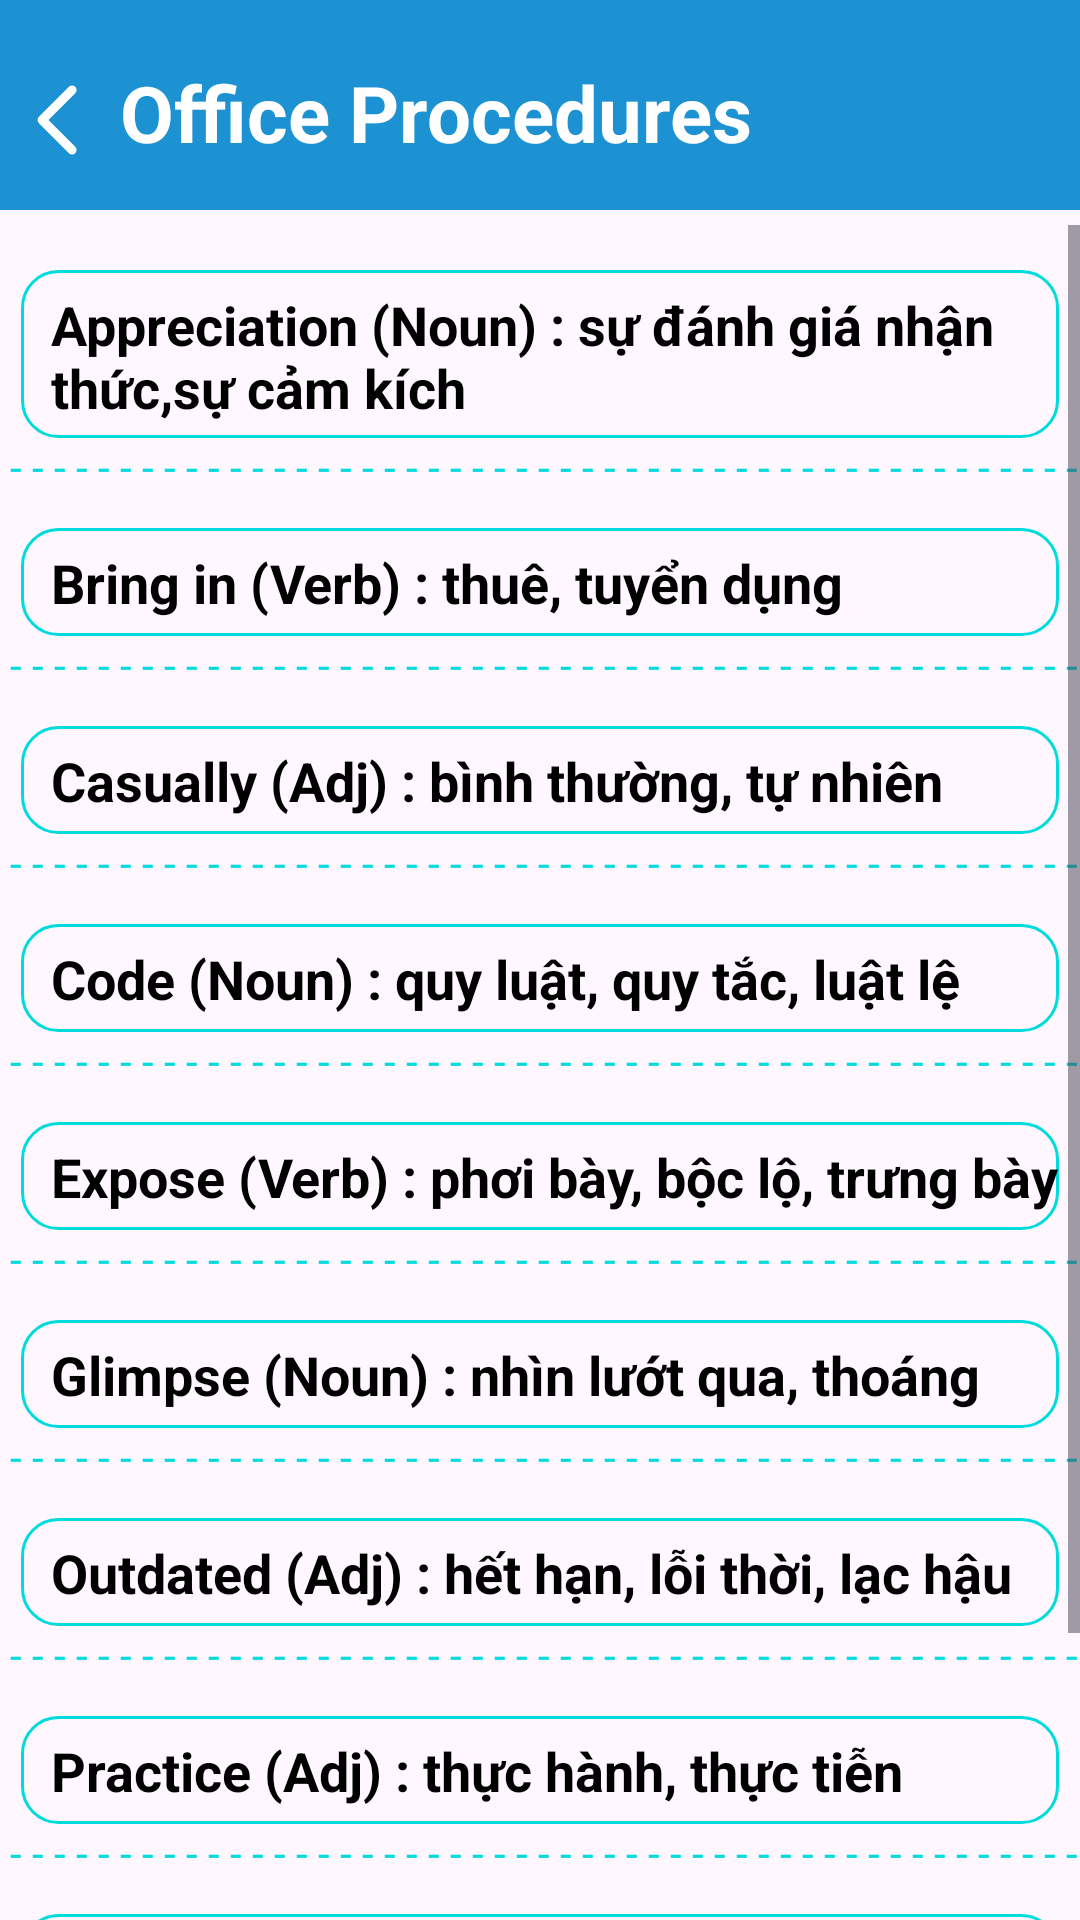

Point at icon controls on the screen. Image size 1080×1920, points as point (x, y).
angle left full: point (57, 120)
